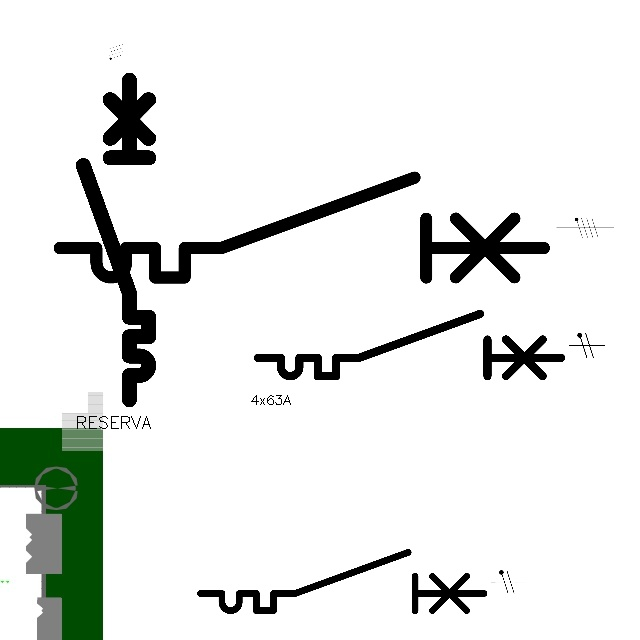interruptor_termomagnetico: (47, 165, 556, 290), (75, 71, 157, 407), (250, 306, 569, 384), (193, 545, 491, 618)
